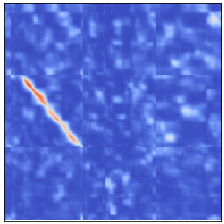action_path: (7, 75, 82, 149)
